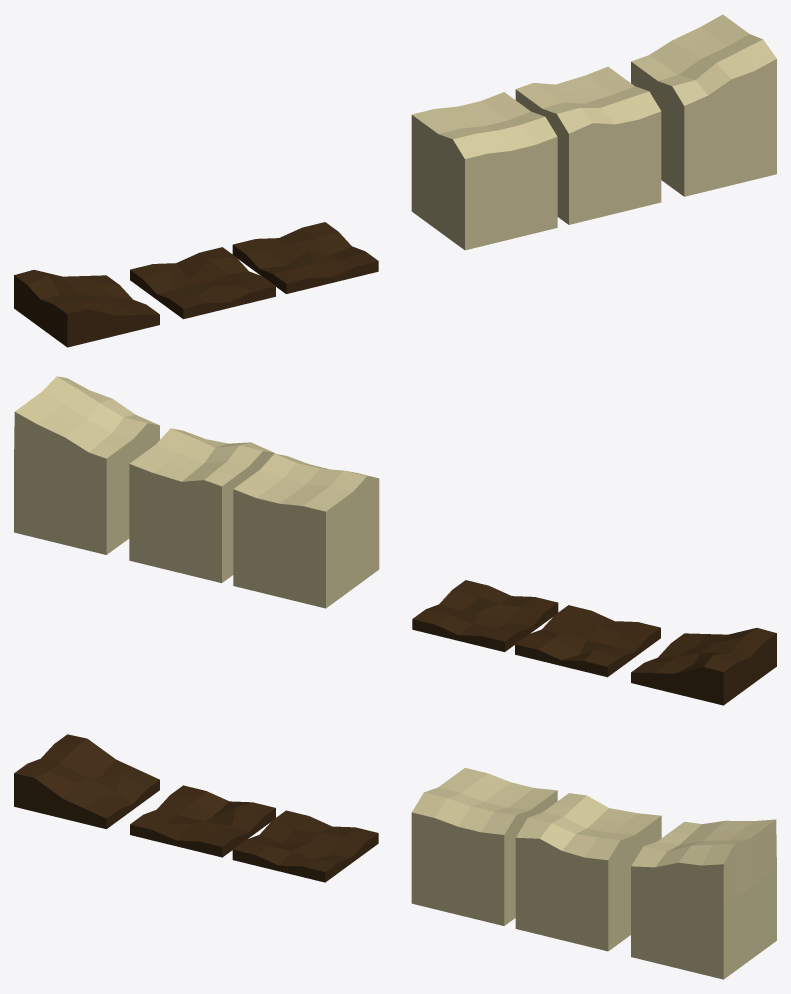
The model's file is tileset.fbx.
The picture shows the model from 3 angles, top to bottom: view 1: azimuth 30°, elevation 25°; view 2: azimuth 150°, elevation 25°; view 3: azimuth 330°, elevation 25°; orthographic projection.
Parts seen in each view (by area): view 1: Sand Angle, Sand 01, Sand 02, Cave angle, Cave01, Cave 02; view 2: Sand Angle, Sand 01, Sand 02, Cave angle, Cave01, Cave 02; view 3: Sand Angle, Sand 02, Sand 01, Cave angle, Cave 02, Cave01.
Part boxes in pixels (<box>): Sand Angle: <box>631,14,776,196</box>; Sand 01: <box>411,92,557,250</box>; Sand 02: <box>515,66,661,224</box>; Cave angle: <box>14,270,159,347</box>; Cave01: <box>130,247,275,319</box>; Cave 02: <box>232,222,378,293</box>; Sand Angle: <box>14,376,159,554</box>; Sand 01: <box>233,453,379,608</box>; Sand 02: <box>129,428,275,582</box>; Cave angle: <box>631,628,776,705</box>; Cave01: <box>515,605,660,677</box>; Cave 02: <box>412,580,558,651</box>; Sand Angle: <box>631,819,776,979</box>; Sand 02: <box>515,793,661,951</box>; Sand 01: <box>411,768,557,925</box>; Cave angle: <box>14,734,159,829</box>; Cave 02: <box>232,810,378,882</box>; Cave01: <box>130,785,275,857</box>.
Size of the model in its own units: 1533 by 261 by 200.
